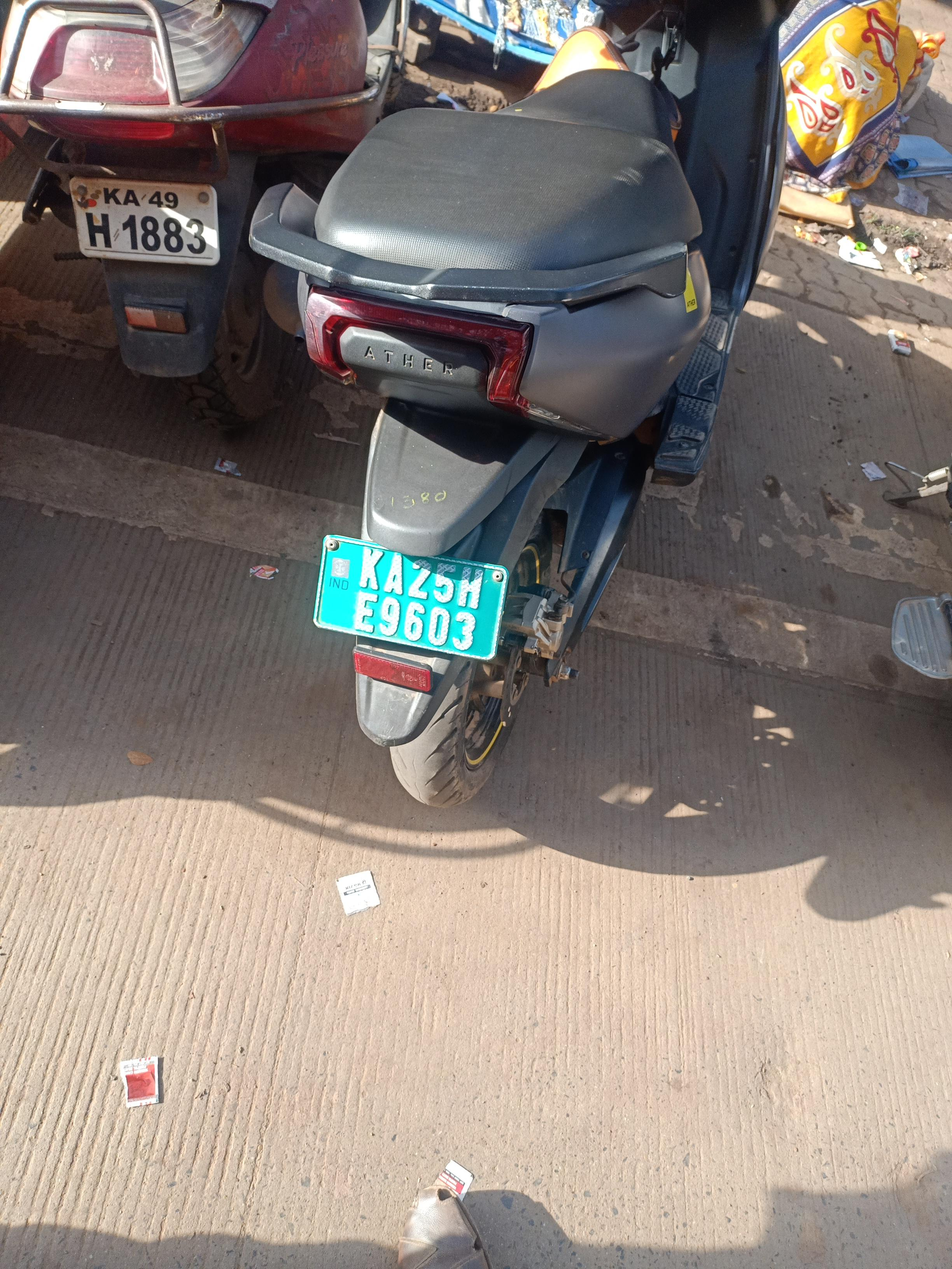green license plate: (306, 530, 513, 663)
